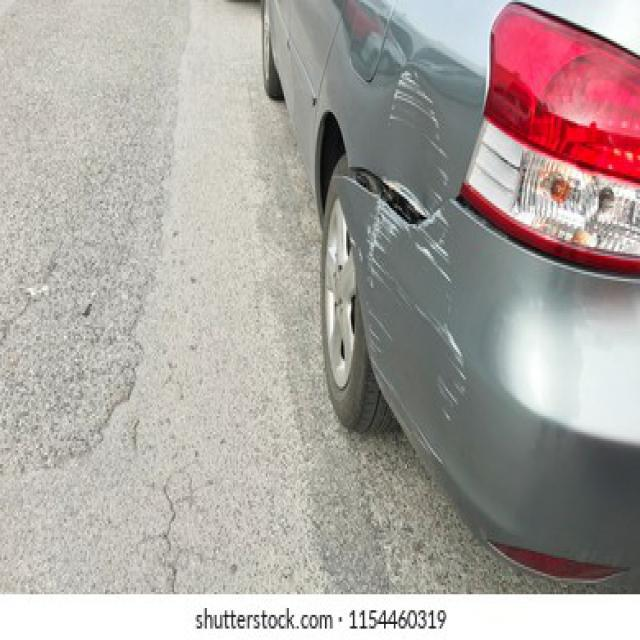quaterpanel-dent: (313, 0, 466, 220)
rear-bumper-dent: (338, 197, 638, 562)
